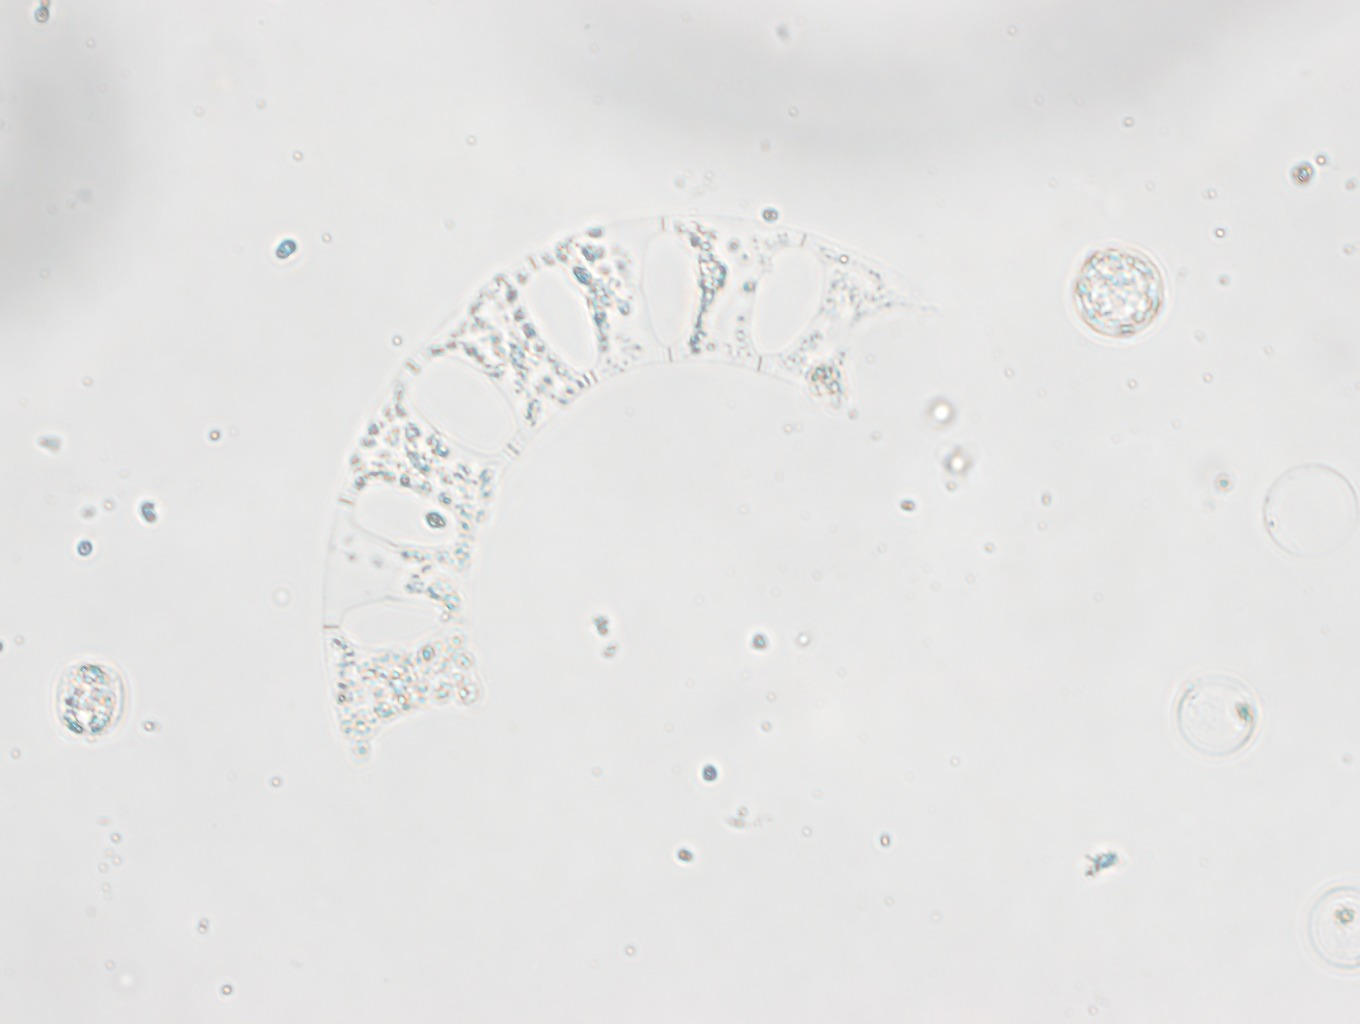eucampia: (272, 190, 932, 780)
